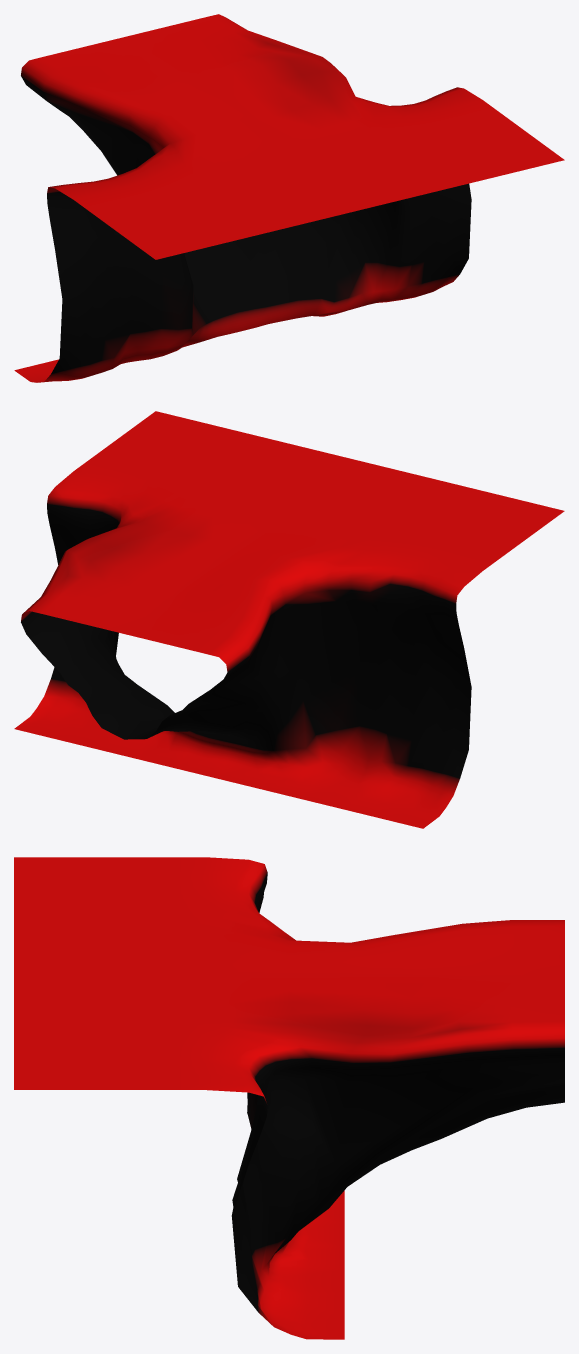
File: CrossingCliff02D 1M Foreground.fbx
3 views of the same model, one above another, from view 1: azimuth 30°, elevation 25°; view 2: azimuth 150°, elevation 25°; view 3: azimuth 270°, elevation 25° (orthographic). The views are drawn at different scales.
Visible parts, largest first — view 1: CrossingCliff02D 1M Foreground; view 2: CrossingCliff02D 1M Foreground; view 3: CrossingCliff02D 1M Foreground.
Part boxes in pixels (box(x1,y1,x2,y2)): CrossingCliff02D 1M Foreground: box(14, 14, 564, 382); CrossingCliff02D 1M Foreground: box(14, 411, 564, 828); CrossingCliff02D 1M Foreground: box(14, 857, 564, 1339).
Bounding box in the file's own units: 2 × 1.01 × 2.
